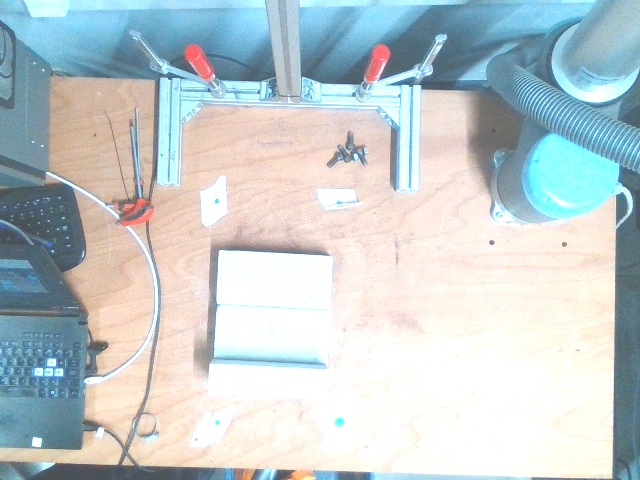brick-side: (206, 362, 329, 402)
